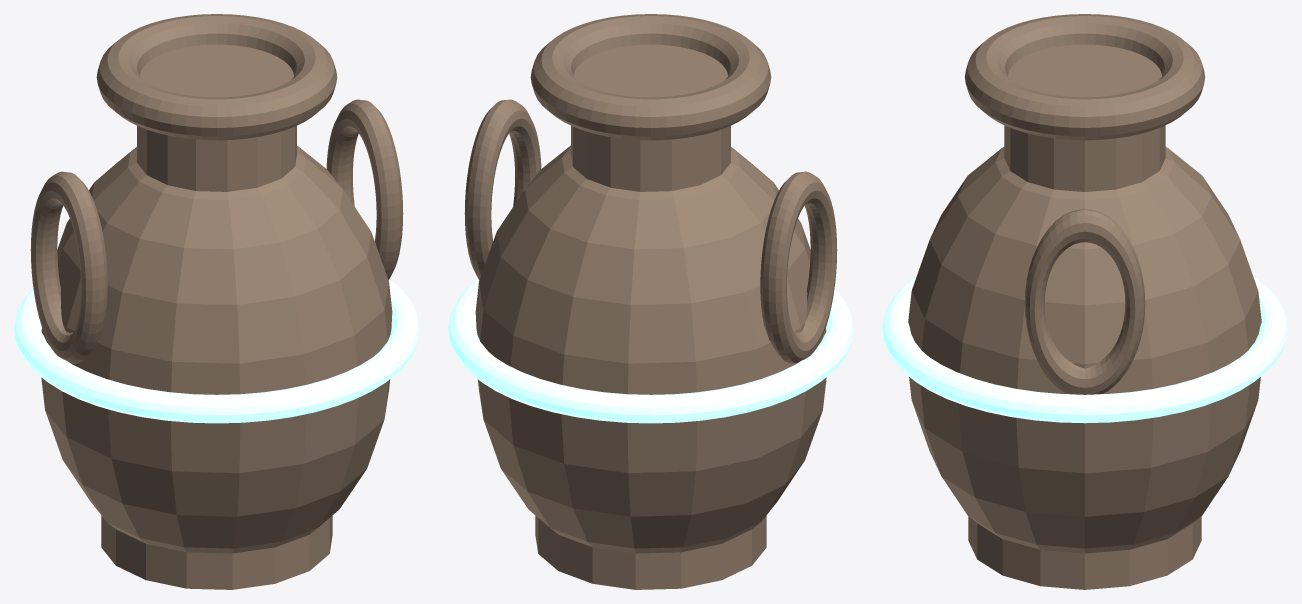
Rendered from MycelialUrn.glb.
The picture shows the model from 3 angles, left to right: view 1: azimuth 30°, elevation 25°; view 2: azimuth 150°, elevation 25°; view 3: azimuth 270°, elevation 25°; orthographic projection.
Visible parts, largest first — view 1: MycelialUrn; view 2: MycelialUrn; view 3: MycelialUrn.
Boxes of the visible parts, box(x1,y1,x2,y2) form: MycelialUrn: box(14, 14, 419, 589); MycelialUrn: box(448, 14, 853, 589); MycelialUrn: box(882, 14, 1287, 589).
Size of the model in its own units: 2.26 by 3.07 by 2.26.
